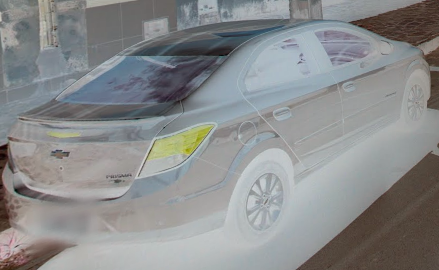car: (7, 19, 432, 246)
